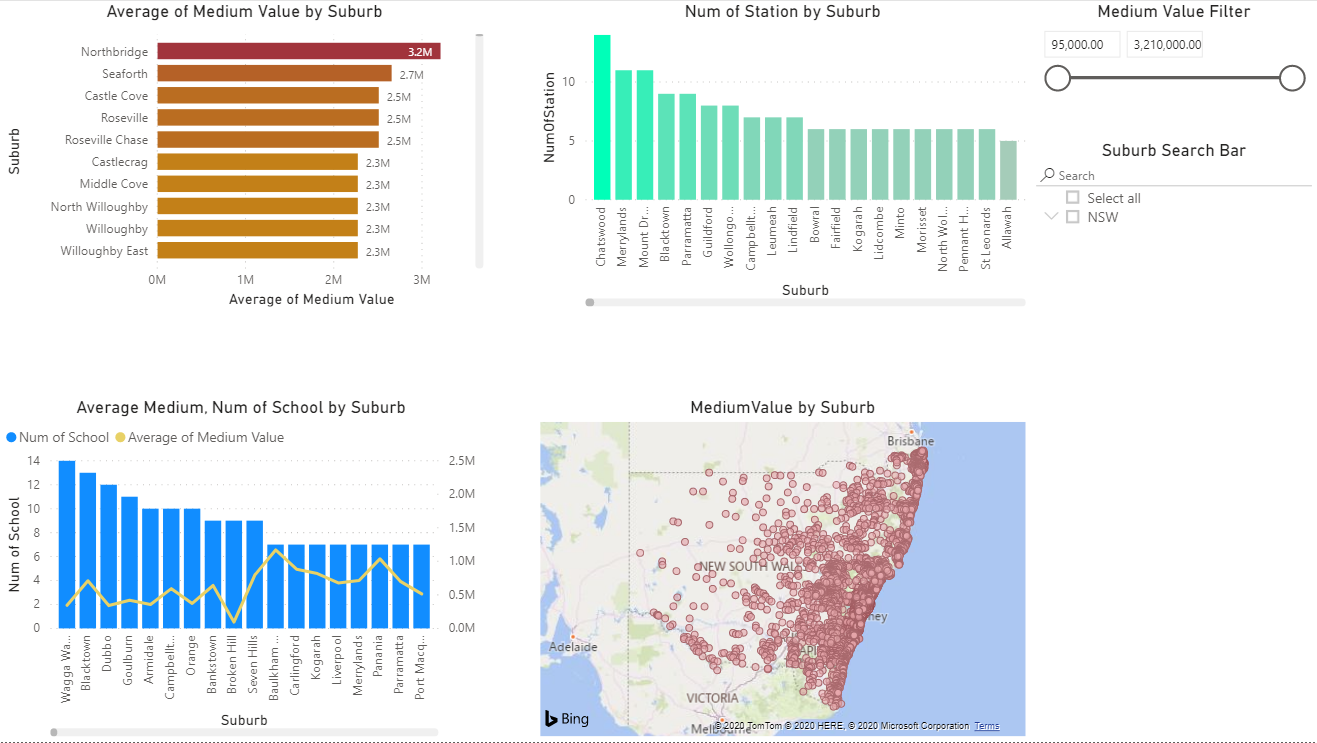

The page's visual inventory and layout, read from the dashboard file:
{"tool":"powerbi","page":{"name":"Page 1","canvas":[1280,720],"ordinal":0},"visuals":[{"type":"clusteredBarChart","fields":{"Category":["DimProperty.Suburb"],"Y":["Avg(FactProperty.MediumValue)"]},"box":[0,0,475.3,302.3],"z":0},{"type":"lineClusteredColumnComboChart","title":"Average Medium, Num of School by Suburb","fields":{"Category":["DimProperty.Suburb"],"Y":["FactProperty.numofschool"],"Y2":["Avg(FactProperty.MediumValue)"]},"box":[0,384.9,468.4,335],"z":1000},{"type":"clusteredColumnChart","title":"Num of Station by Suburb","fields":{"Category":["DimProperty.Suburb"],"Y":["FactProperty.NumOfStation"]},"box":[520.4,0,481.7,302.4],"z":2000},{"type":"slicer","title":"Suburb Search Bar","fields":{"Values":["DimSuburb.State_Code","DimSuburb.Suburb"]},"box":[1002,135.4,278,584.5],"z":3000},{"type":"map","title":"MediumValue by Suburb","fields":{"Size":["Sum(FactProperty.MediumValue)"],"Y":["DimSuburb.School_Lat"],"X":["DimSuburb.School_Lon"]},"box":[520.4,384.9,481.7,335],"z":4000},{"type":"slicer","title":"Medium Value Filter","fields":{"Values":["FactProperty.MediumValue"]},"box":[1002,0,278,135.4],"z":5000}]}

Visuals, with their boxes in screenshot pixels (x1, y1, x2, y2), scaled from the page's 1280x720 canvas onto the 1317x743 screenshot:
clusteredBarChart - DimProperty.Suburb x Avg(FactProperty.MediumValue): (x1=0, y1=0, x2=489, y2=312)
"Average Medium, Num of School by Suburb" lineClusteredColumnComboChart: (x1=0, y1=397, x2=482, y2=742)
"Num of Station by Suburb" clusteredColumnChart: (x1=535, y1=0, x2=1031, y2=312)
"Suburb Search Bar" slicer: (x1=1031, y1=140, x2=1316, y2=742)
"MediumValue by Suburb" map: (x1=535, y1=397, x2=1031, y2=742)
"Medium Value Filter" slicer: (x1=1031, y1=0, x2=1316, y2=140)
